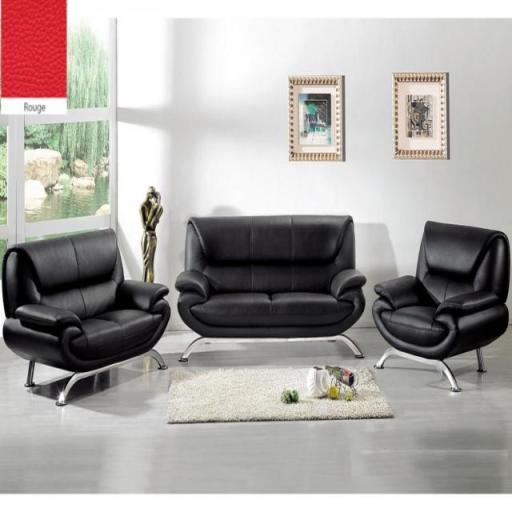sofa: (170, 187, 374, 398), (5, 216, 170, 414), (382, 188, 512, 403)
